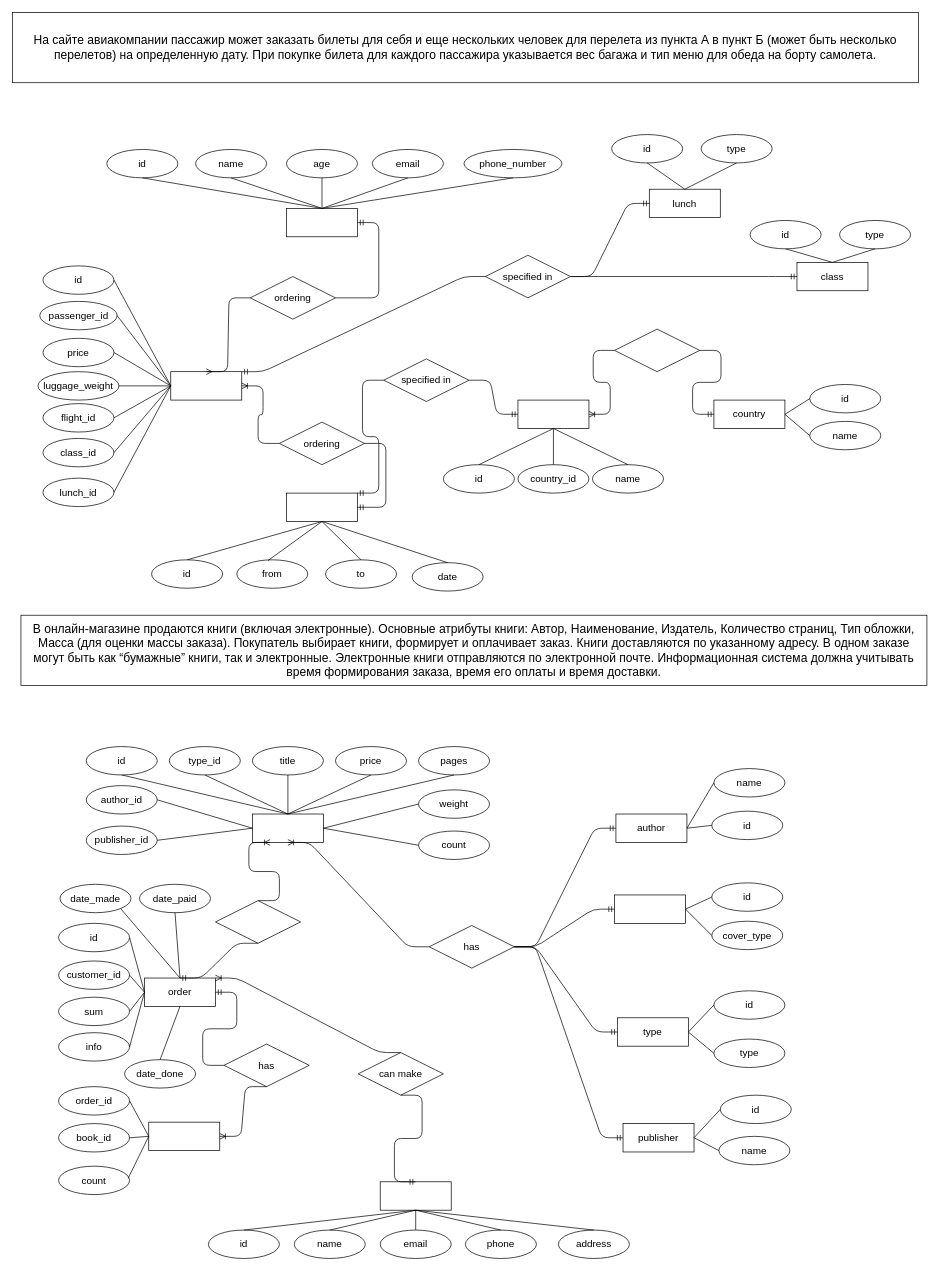
This 939x1271 diagram has some shape labels left out. Each missing label, with the centre of its shape:
"book" belongs at point (287, 827).
"city" belongs at point (553, 413).
"contain" belongs at point (258, 921).
"cover" belongs at point (650, 908).
"customer" belongs at point (415, 1195).
"flight" belongs at point (321, 506).
"located in" belongs at point (657, 350).
"order_info" belongs at point (184, 1136).
"passenger" belongs at point (321, 222).
"ticket" belongs at point (206, 385).
